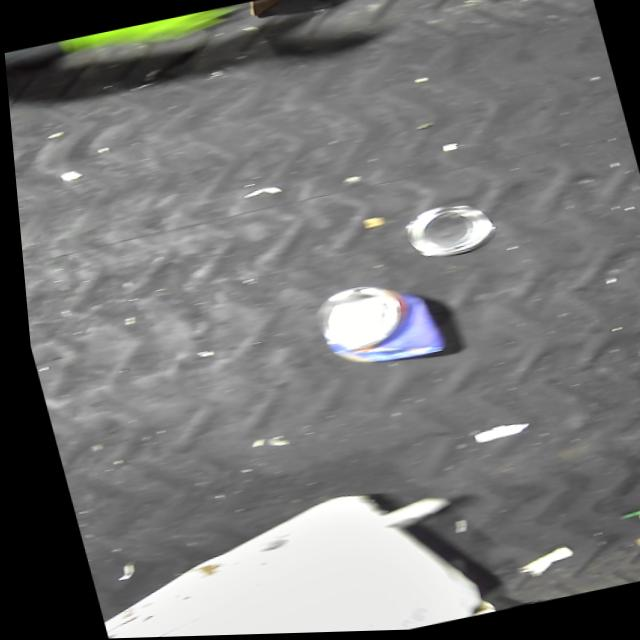can: (395, 197, 498, 267)
